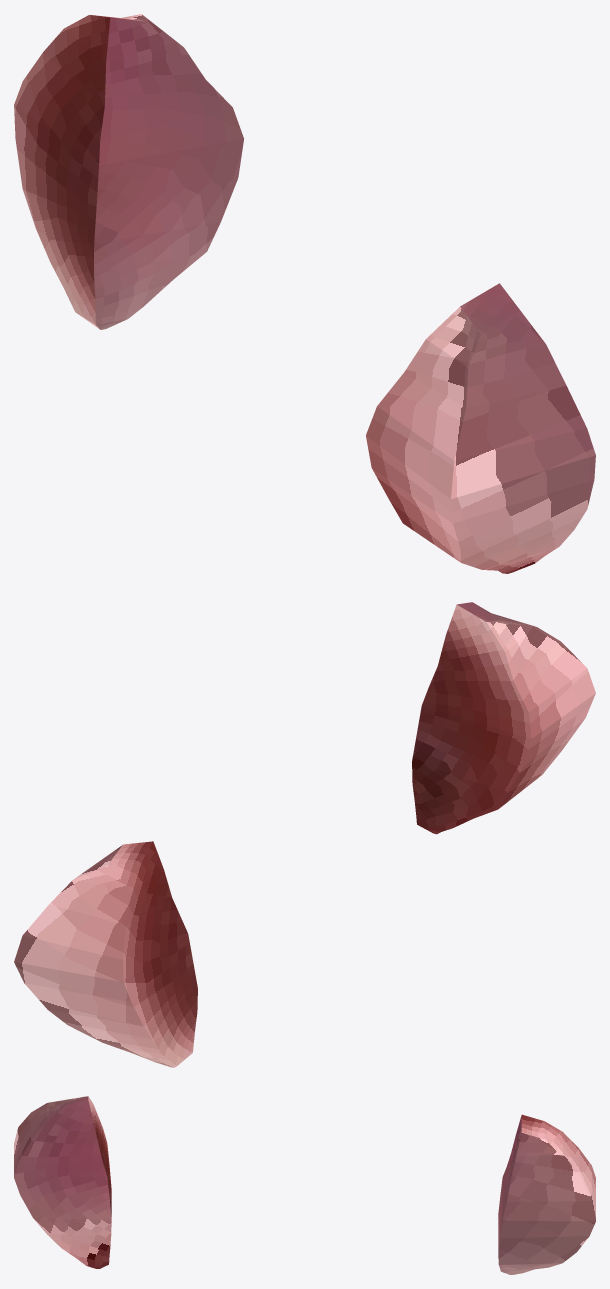
The picture shows the model from 3 angles, top to bottom: view 1: azimuth 30°, elevation 25°; view 2: azimuth 150°, elevation 25°; view 3: azimuth 270°, elevation 25°; orthographic projection. The views are drawn at different scales.
Visible parts, largest first — view 1: metamorphosis_v2.001; view 2: metamorphosis_v2.001; view 3: metamorphosis_v2.001.
Boxes of the visible parts, x1,y1,x2,y2 form: metamorphosis_v2.001: [14, 14, 595, 573]; metamorphosis_v2.001: [14, 602, 595, 1067]; metamorphosis_v2.001: [14, 1096, 595, 1274].
Bounding box in the file's own units: 0.3462 × 0.4505 × 1.33.
1 material, 1 textured.
